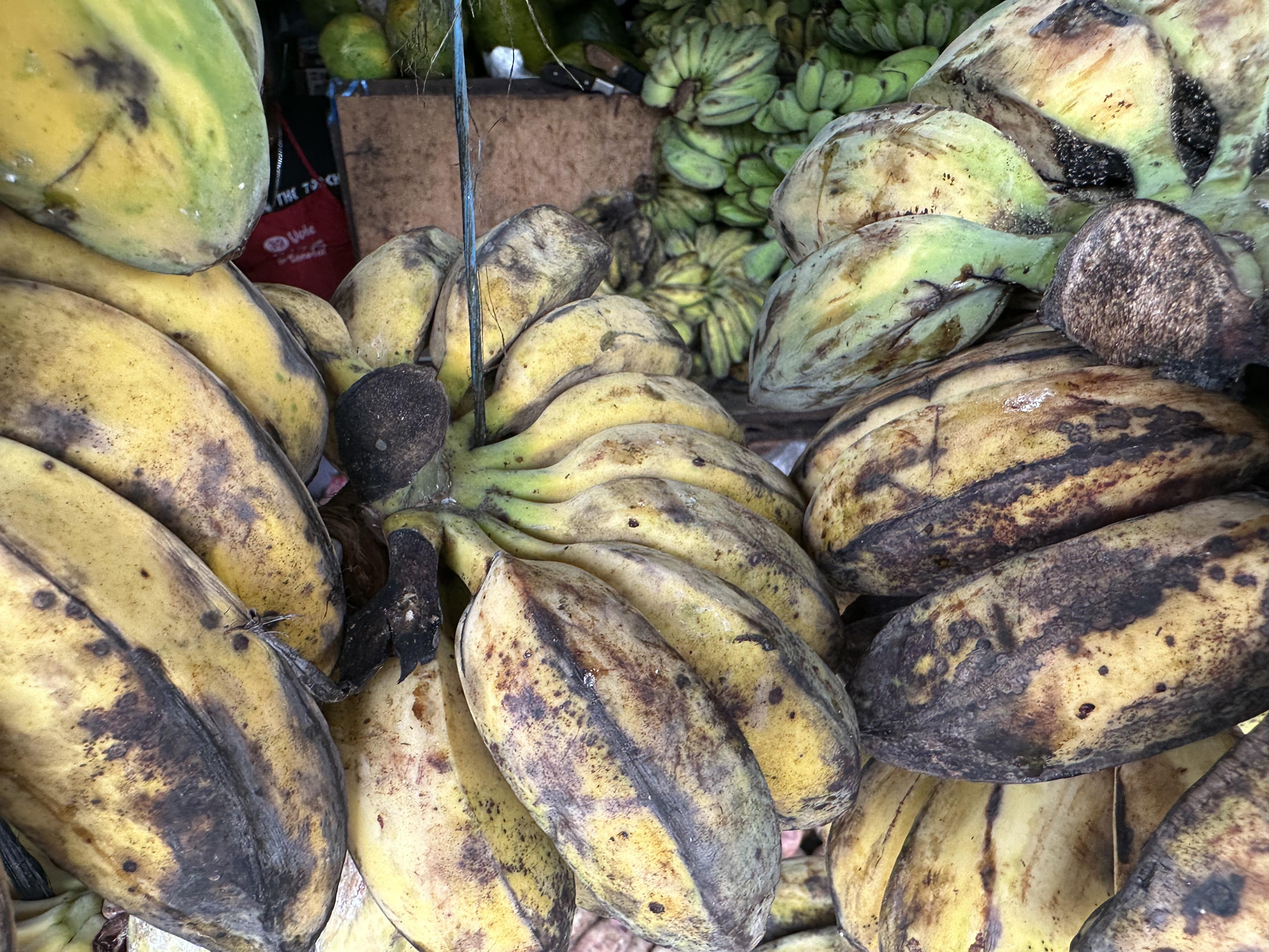ripe: (253, 201, 862, 952), (793, 324, 1269, 952), (0, 195, 348, 952), (826, 722, 1246, 952)
underripe: (743, 0, 1269, 431)
